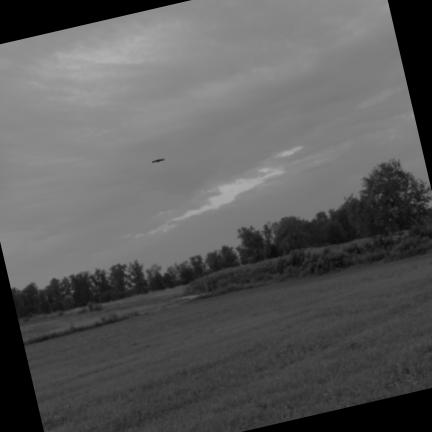Shahed: (152, 158, 165, 163)
